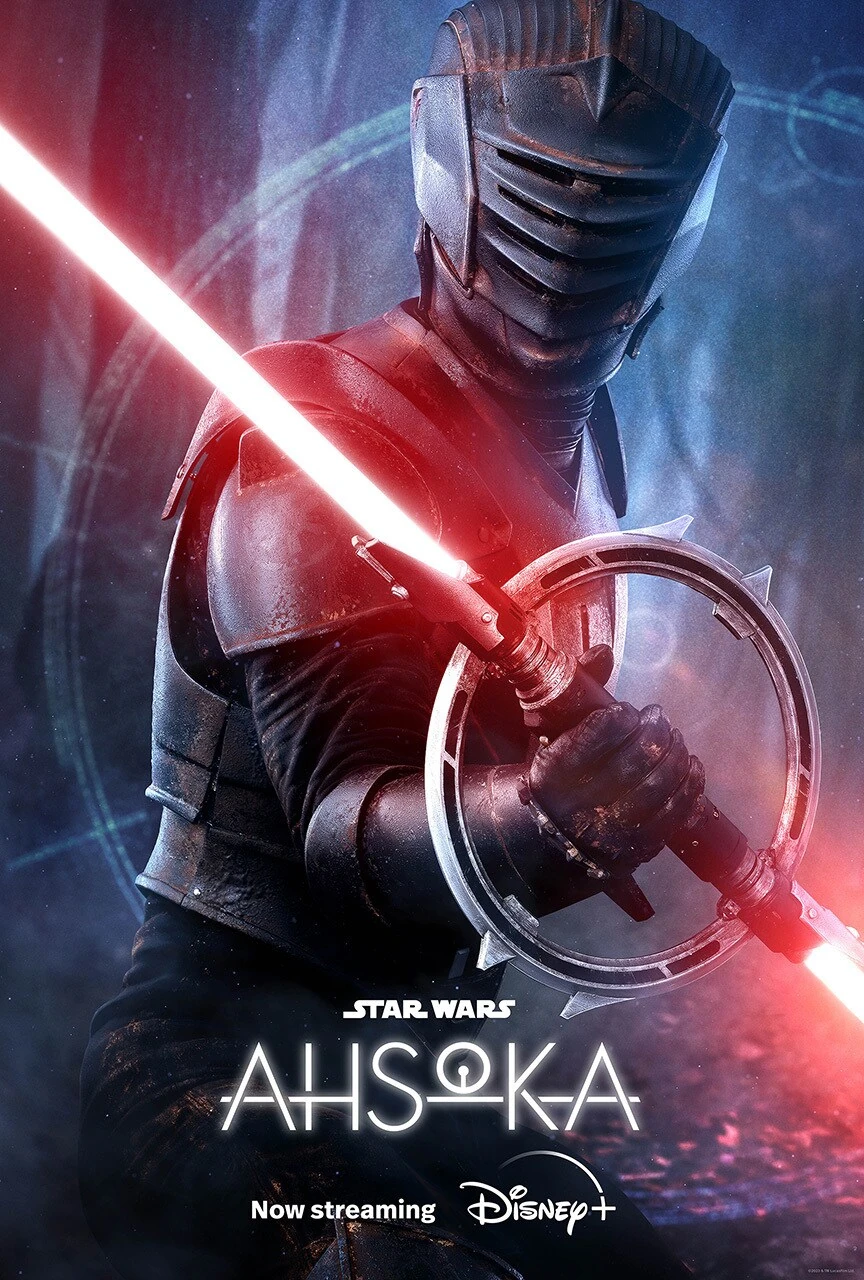cats: (0, 112, 861, 1041)
